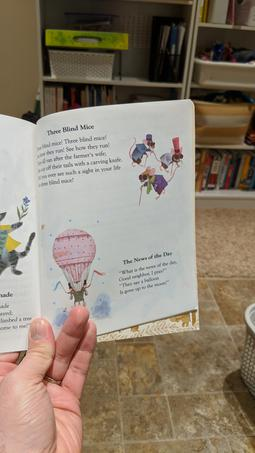text block: (33, 117, 127, 194), (109, 251, 187, 299), (1, 289, 39, 336)
